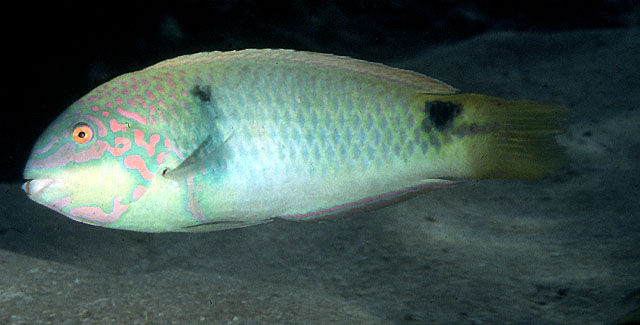fish: (22, 48, 570, 234)
